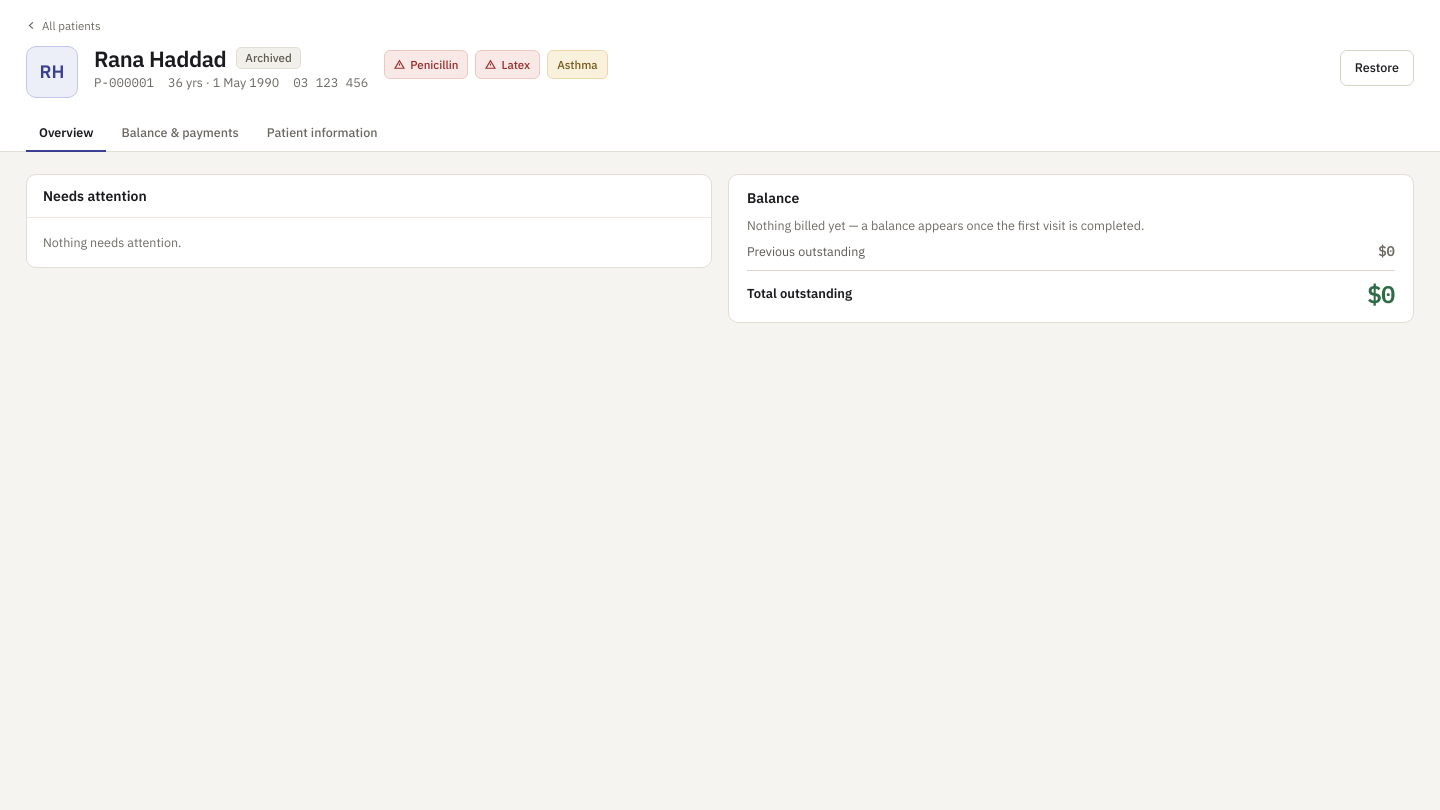
Scenario: RecordHeader › shows Archived and Restore instead of Edit for an archived record, and restores it
This screenshot has width=1440, height=810.
Check: the text "Archived" is shown, box [236,47,301,69]
Check: the button "Edit patient" is not shown
Click the button "Restore" at (1377, 68), box [1340,50,1414,86]
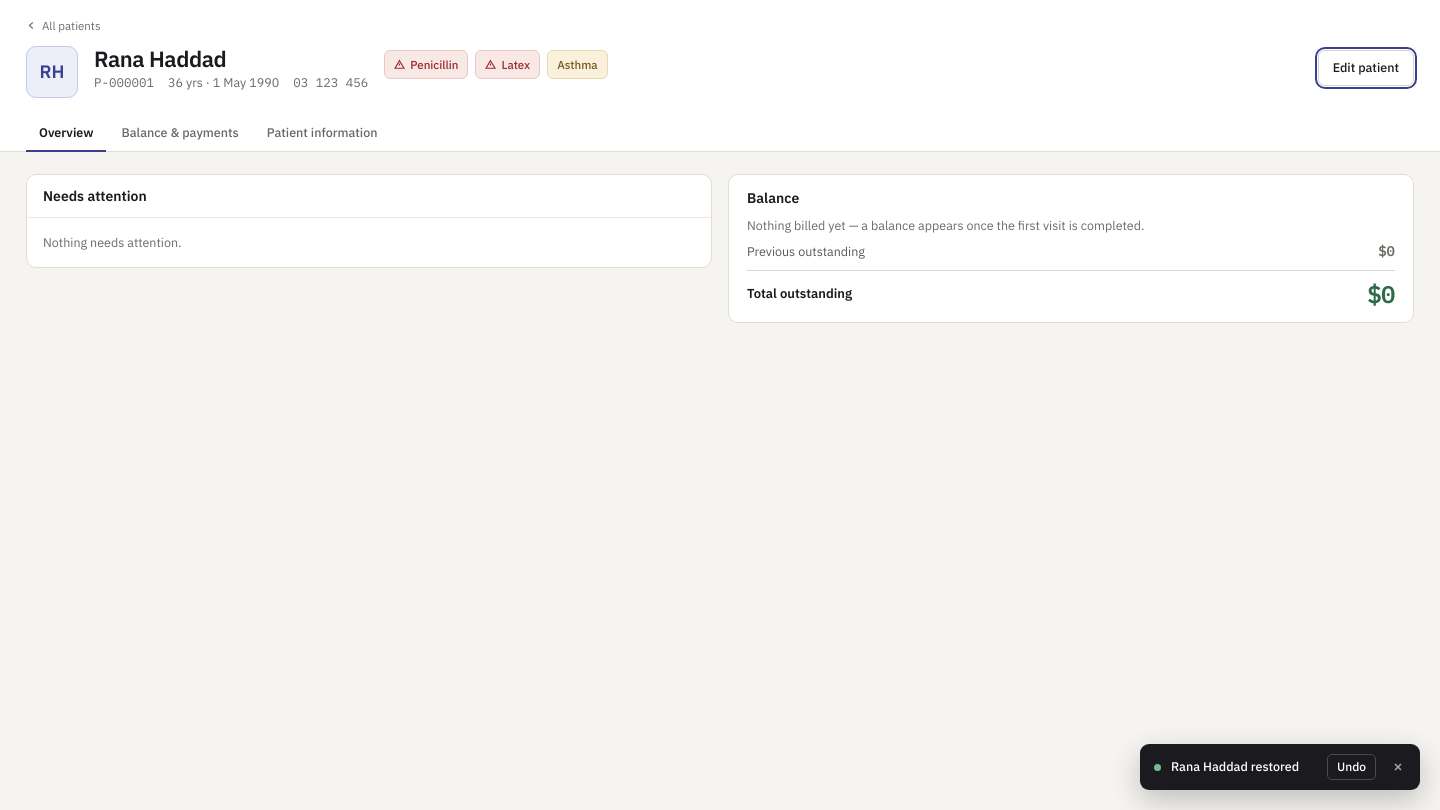
Check: the text "Rana Haddad restored" is shown, box [1171,758,1317,776]
Check: the text "Archived" is gone
